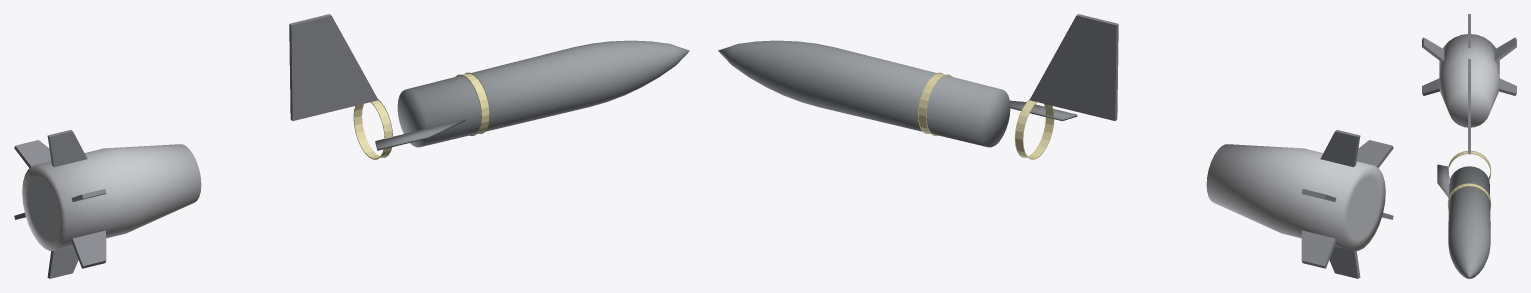
Rendered from US_STRAT_TLAM_N_LOD1.fbx.
3 views of the same model, side by side, from view 1: azimuth 30°, elevation 25°; view 2: azimuth 150°, elevation 25°; view 3: azimuth 270°, elevation 25° (orthographic). The views are drawn at different scales.
Visible parts, largest first — view 1: WPN_US_STRAT_TLAM_N_LOD1_Body, WPN_US_STRAT_TLAM_N_LOD1_Tail, WPN_US_STRAT_TLAM_N_LOD1_Wings, WPN_US_STRAT_TLAM_N_LOD1_Fins, WPN_US_STRAT_TLAM_N_LOD1_Marking, WPN_US_STRAT_TLAM_N_LOD1_Detail; view 2: WPN_US_STRAT_TLAM_N_LOD1_Body, WPN_US_STRAT_TLAM_N_LOD1_Tail, WPN_US_STRAT_TLAM_N_LOD1_Wings, WPN_US_STRAT_TLAM_N_LOD1_Fins, WPN_US_STRAT_TLAM_N_LOD1_Marking, WPN_US_STRAT_TLAM_N_LOD1_Detail; view 3: WPN_US_STRAT_TLAM_N_LOD1_Tail, WPN_US_STRAT_TLAM_N_LOD1_Body, WPN_US_STRAT_TLAM_N_LOD1_Fins, WPN_US_STRAT_TLAM_N_LOD1_Marking, WPN_US_STRAT_TLAM_N_LOD1_Detail, WPN_US_STRAT_TLAM_N_LOD1_Wings.
Part boxes in pixels (x1,y1,x2,y2): WPN_US_STRAT_TLAM_N_LOD1_Body: (397, 40, 689, 147); WPN_US_STRAT_TLAM_N_LOD1_Tail: (22, 144, 201, 250); WPN_US_STRAT_TLAM_N_LOD1_Wings: (289, 14, 378, 120); WPN_US_STRAT_TLAM_N_LOD1_Fins: (14, 130, 106, 278); WPN_US_STRAT_TLAM_N_LOD1_Marking: (353, 72, 489, 159); WPN_US_STRAT_TLAM_N_LOD1_Detail: (375, 119, 465, 150); WPN_US_STRAT_TLAM_N_LOD1_Body: (718, 40, 1010, 147); WPN_US_STRAT_TLAM_N_LOD1_Tail: (1206, 144, 1385, 250); WPN_US_STRAT_TLAM_N_LOD1_Wings: (1029, 14, 1118, 120); WPN_US_STRAT_TLAM_N_LOD1_Fins: (1301, 130, 1393, 278); WPN_US_STRAT_TLAM_N_LOD1_Marking: (918, 72, 1054, 159); WPN_US_STRAT_TLAM_N_LOD1_Detail: (1010, 100, 1077, 121); WPN_US_STRAT_TLAM_N_LOD1_Tail: (1439, 34, 1499, 127); WPN_US_STRAT_TLAM_N_LOD1_Body: (1448, 166, 1490, 278); WPN_US_STRAT_TLAM_N_LOD1_Fins: (1422, 14, 1516, 95); WPN_US_STRAT_TLAM_N_LOD1_Marking: (1447, 151, 1491, 210); WPN_US_STRAT_TLAM_N_LOD1_Detail: (1437, 164, 1448, 197); WPN_US_STRAT_TLAM_N_LOD1_Wings: (1468, 59, 1470, 154).
Bounding box in the file's own units: 6.25 × 1.16 × 1.8.
